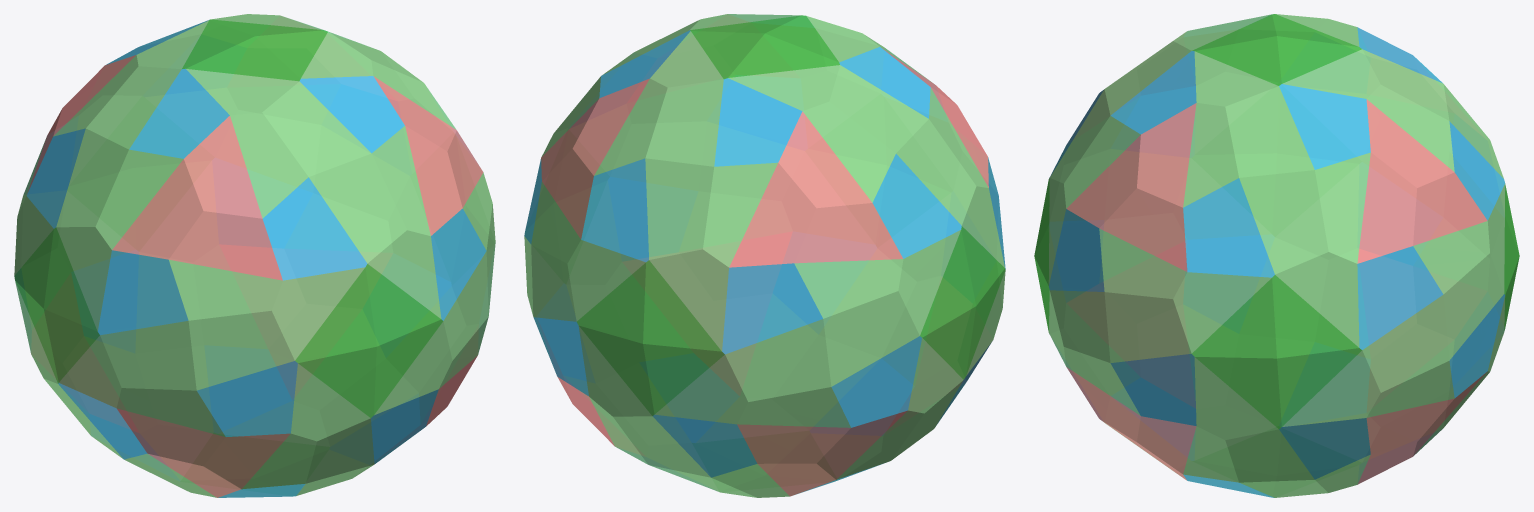
Rendered from BiscribedPropelloPentagonalIcositetrahedron.obj.
3 renders of one model, left to right at view 1: azimuth 30°, elevation 25°; view 2: azimuth 150°, elevation 25°; view 3: azimuth 270°, elevation 25°, orthographic.
Bounding box in the file's own units: 2 × 2 × 2.
